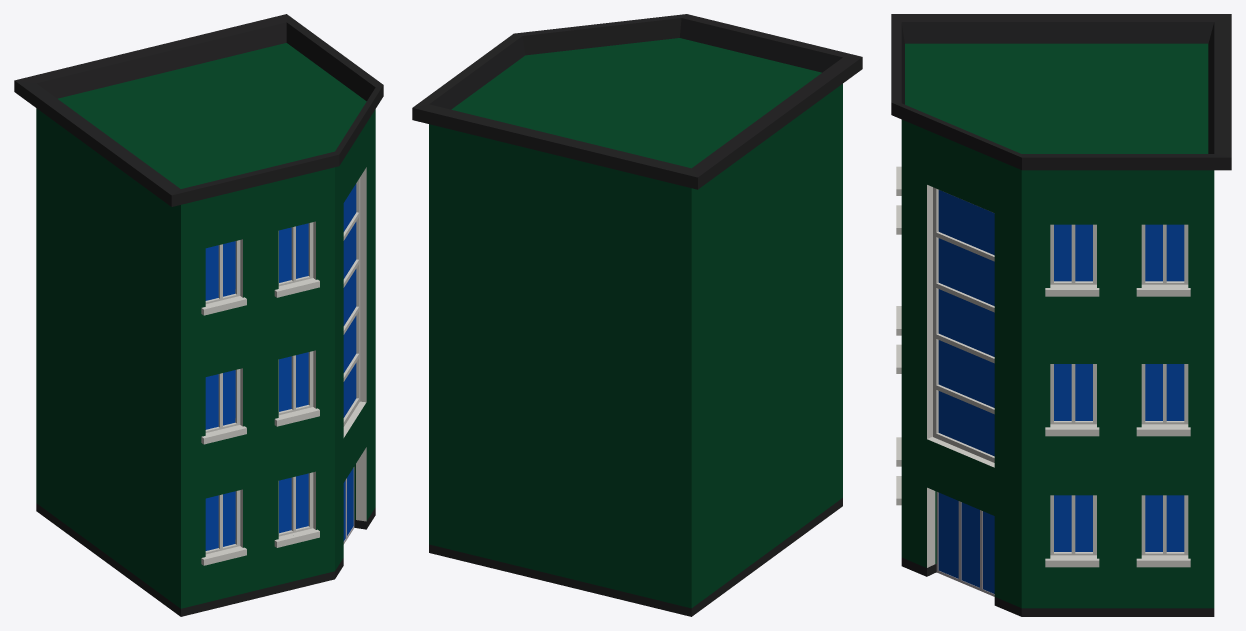
The model's file is Flat2.fbx.
3 views of the same model, side by side, from view 1: azimuth 30°, elevation 25°; view 2: azimuth 150°, elevation 25°; view 3: azimuth 270°, elevation 25° (orthographic). The views are drawn at different scales.
Visible parts, largest first — view 1: flat2; view 2: flat2; view 3: flat2.
Part boxes in pixels (x1,y1,x2,y2): flat2: (14, 14, 383, 616); flat2: (412, 14, 862, 616); flat2: (891, 14, 1231, 616).
Size of the model in its own units: 7.65 by 11.5 by 7.65.
